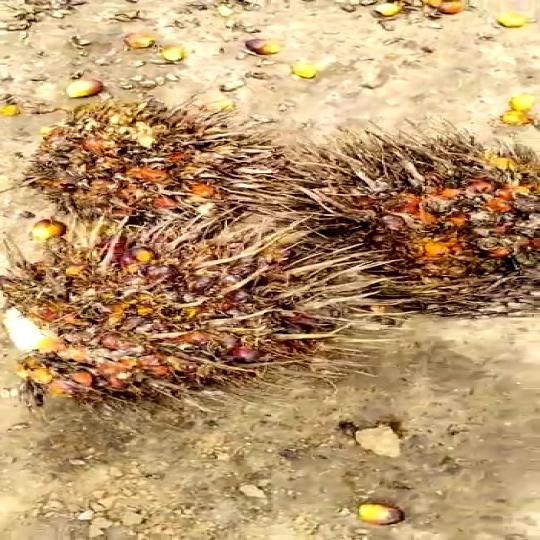terlalu masak: (0, 213, 374, 389), (288, 153, 532, 304), (12, 116, 277, 222)
